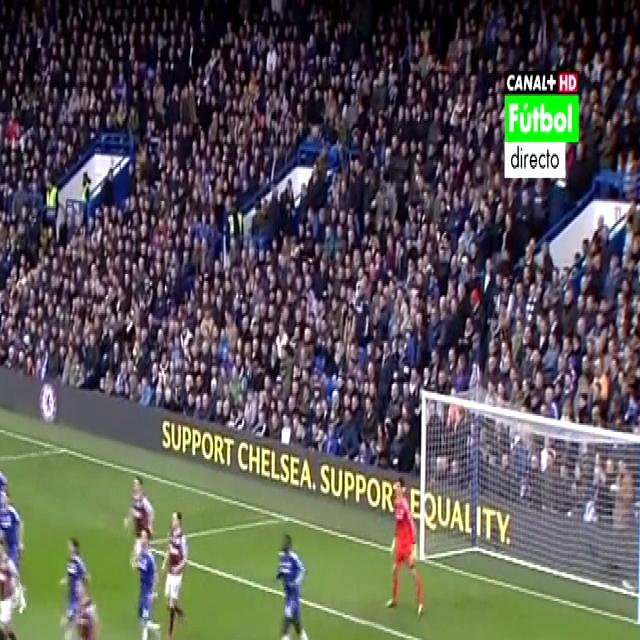soccer-player: (377, 474, 430, 634), (260, 522, 327, 640), (157, 492, 191, 640), (123, 460, 159, 597), (127, 530, 164, 640), (56, 537, 94, 640), (63, 578, 117, 640), (0, 522, 26, 640), (0, 436, 11, 580), (0, 629, 37, 640)
